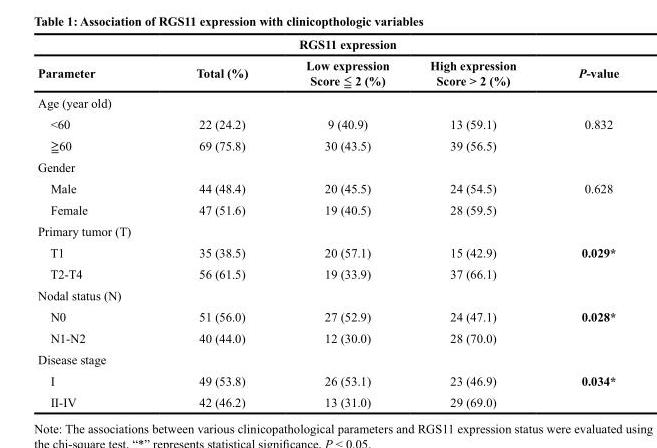table: (37, 36, 618, 408)
table column: (409, 36, 546, 408), (276, 36, 409, 408), (145, 36, 276, 408), (37, 36, 145, 408), (546, 36, 618, 408)
table column header: (37, 36, 618, 92)
table projected row header: (37, 92, 618, 113), (37, 220, 618, 241), (37, 284, 618, 305), (37, 348, 618, 369), (37, 157, 618, 177)
table row: (37, 54, 618, 92), (37, 133, 618, 157), (37, 198, 618, 220), (37, 262, 618, 284), (37, 305, 618, 327), (37, 369, 618, 391), (37, 92, 618, 113), (37, 177, 618, 198), (37, 220, 618, 241), (37, 241, 618, 262), (37, 284, 618, 305), (37, 327, 618, 348), (37, 348, 618, 369), (37, 113, 618, 133), (37, 157, 618, 177), (37, 36, 618, 54), (37, 391, 618, 408)
table spanning cell: (37, 36, 618, 54)
